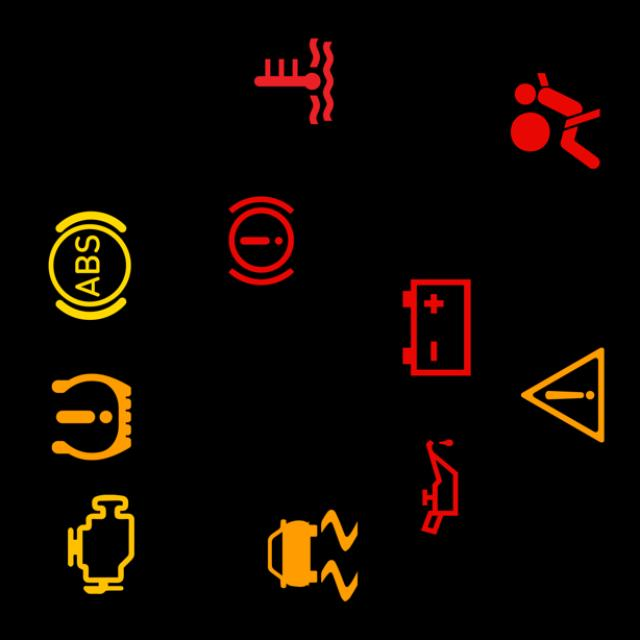Anti Lock Braking System: (30, 207, 149, 326)
Braking System Issue: (202, 182, 321, 300)
Charging System Issue: (377, 268, 496, 387)
Check Engine: (41, 484, 160, 604)
Electronic Stability Problem -ESP-: (253, 496, 372, 615)
Engine Overheating Warning Light: (234, 22, 354, 141)
Low Engine Oil Warning Light: (380, 428, 500, 546)
Low Tire Pressure Warning Light: (32, 358, 151, 477)
Master warning light: (503, 336, 622, 454)
SRS-Airbag: (496, 61, 615, 180)
